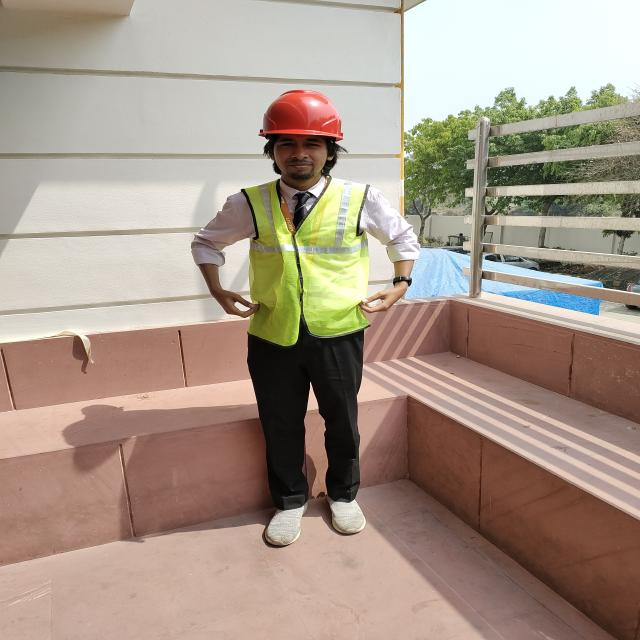safe: (236, 88, 374, 544)
